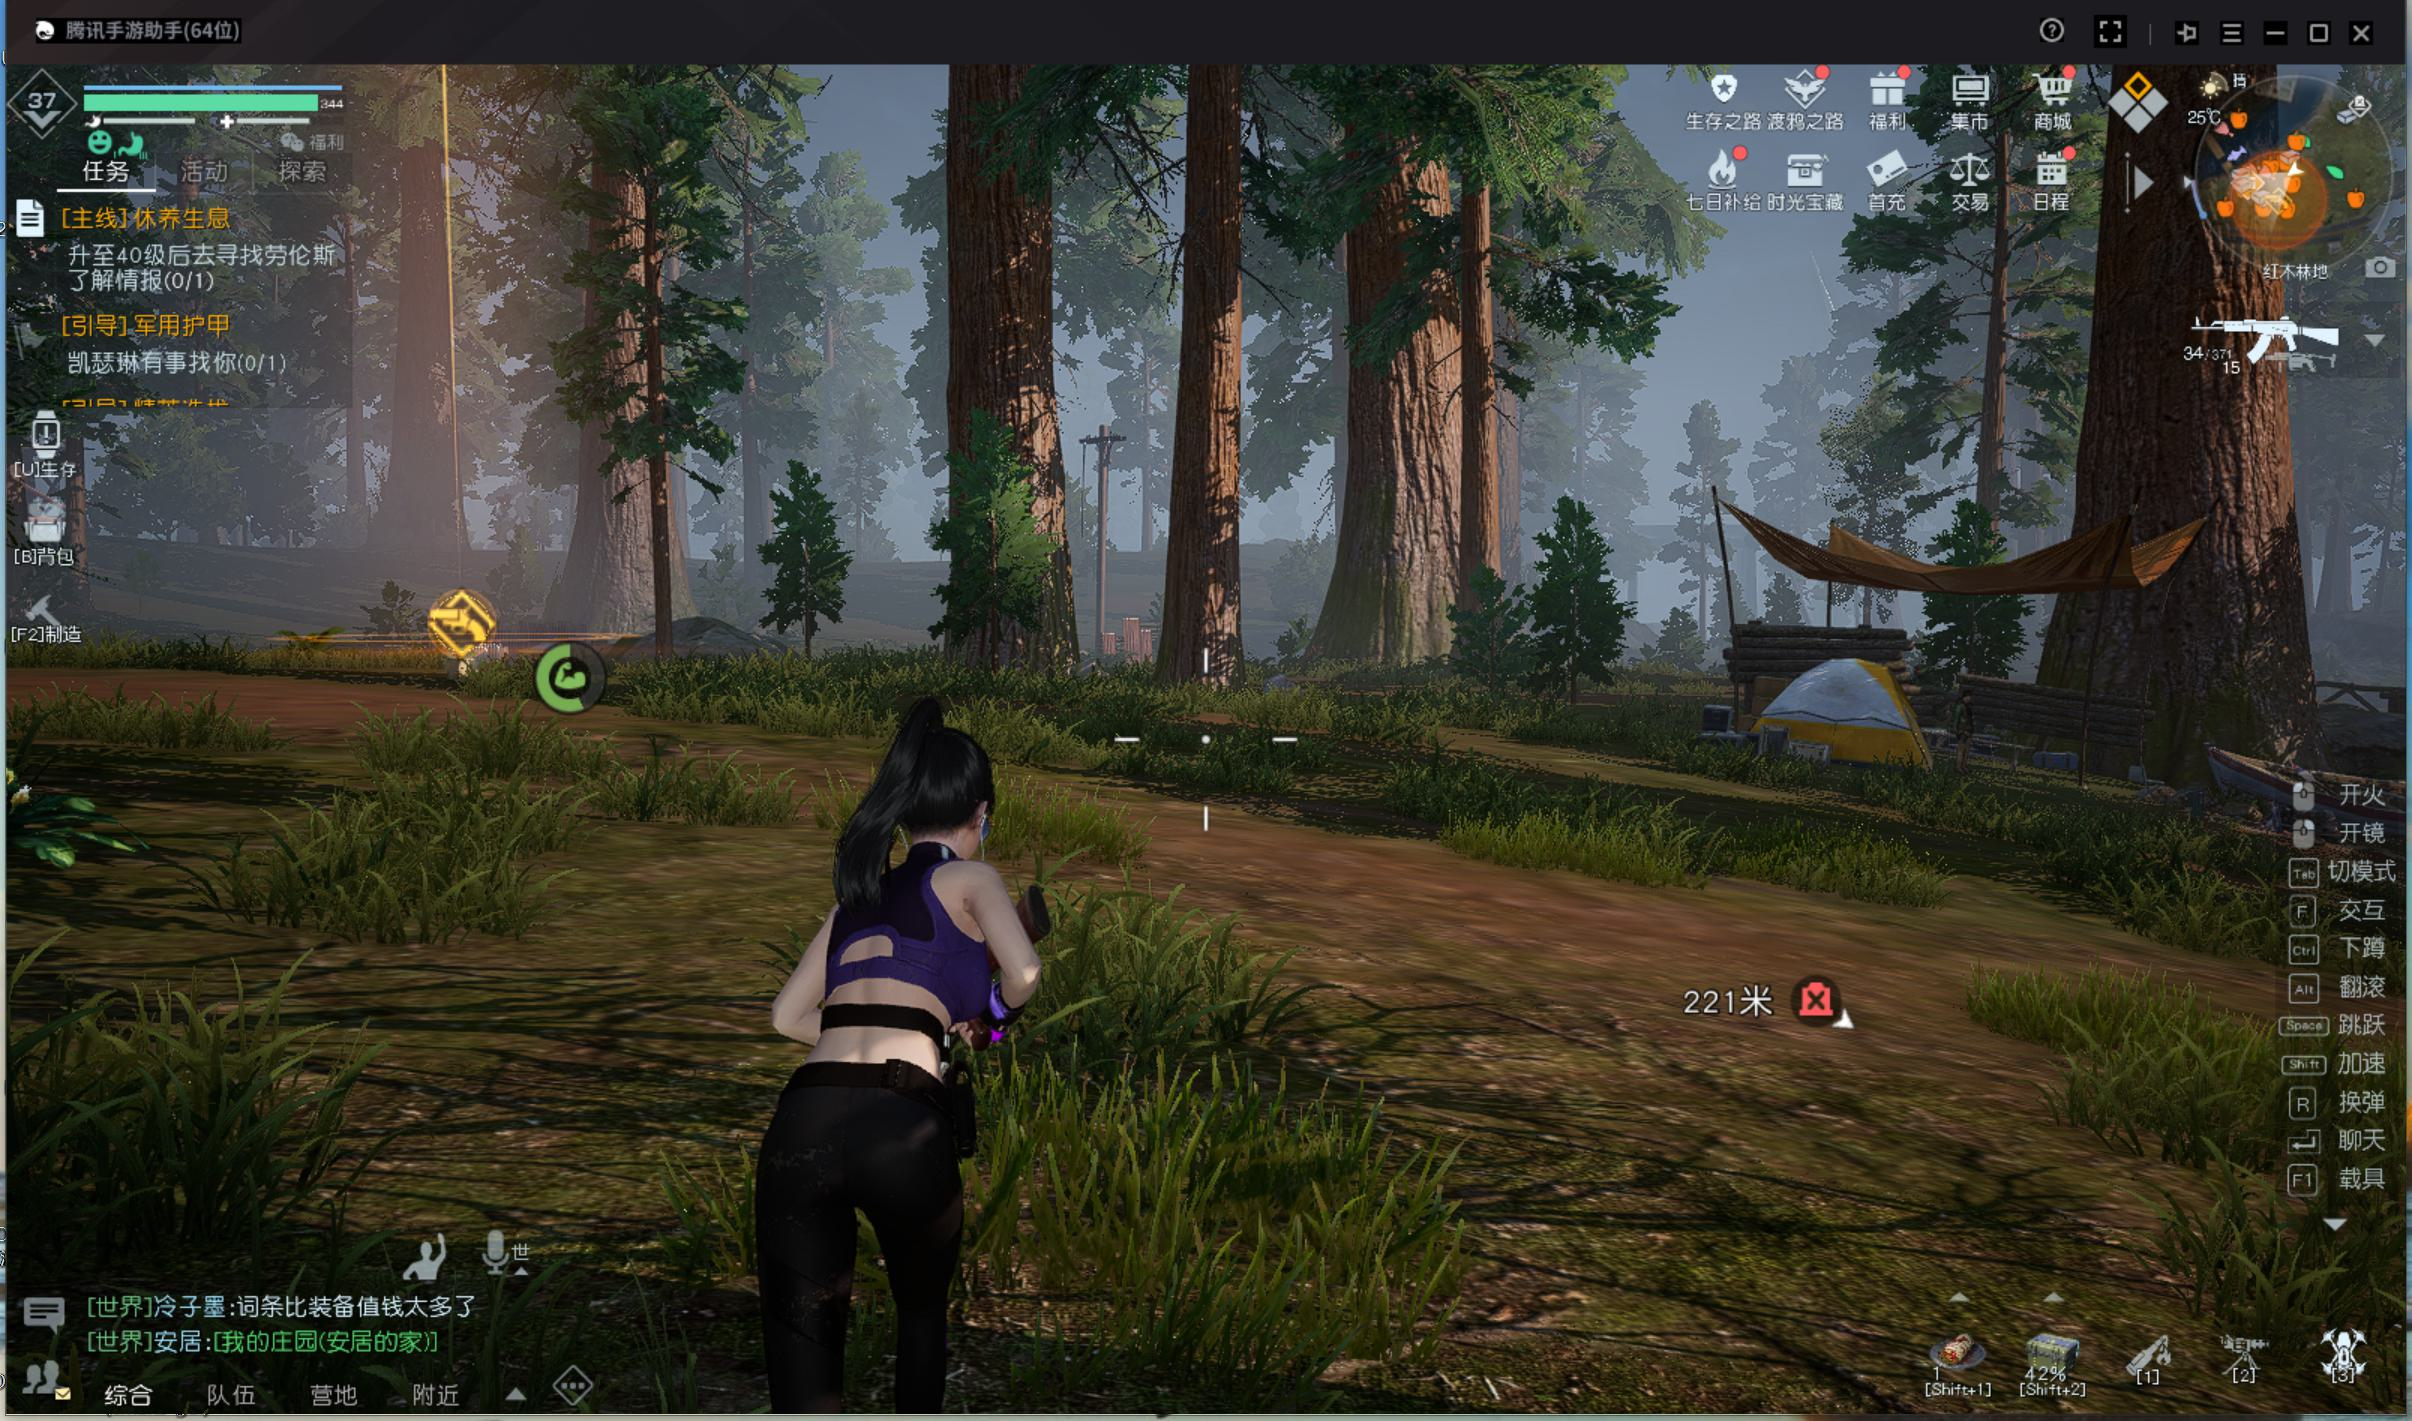tree: (2058, 210, 2317, 793), (929, 127, 1084, 722), (1165, 127, 1260, 716), (1460, 196, 1509, 683)
